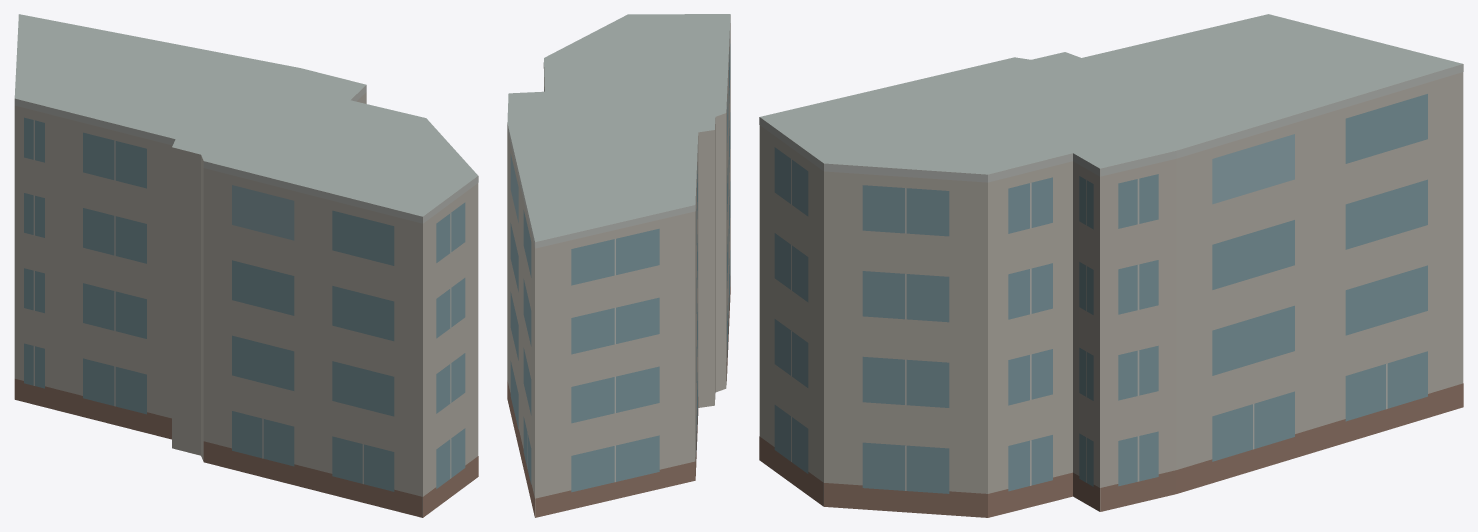
The model's file is survey-upis-32476362.glb.
3 views of the same model, side by side, from view 1: azimuth 30°, elevation 25°; view 2: azimuth 150°, elevation 25°; view 3: azimuth 270°, elevation 25° (orthographic). The views are drawn at different scales.
Parts seen in each view (by area): view 1: survey-upis-32476362.tmp; view 2: survey-upis-32476362.tmp; view 3: survey-upis-32476362.tmp.
Boxes of the visible parts, x1=… form: survey-upis-32476362.tmp: x1=14, y1=14, x2=478, y2=517; survey-upis-32476362.tmp: x1=507, y1=14, x2=730, y2=517; survey-upis-32476362.tmp: x1=759, y1=14, x2=1463, y2=517.
Bounding box in the file's own units: 10.54 × 10.5 × 19.52.
